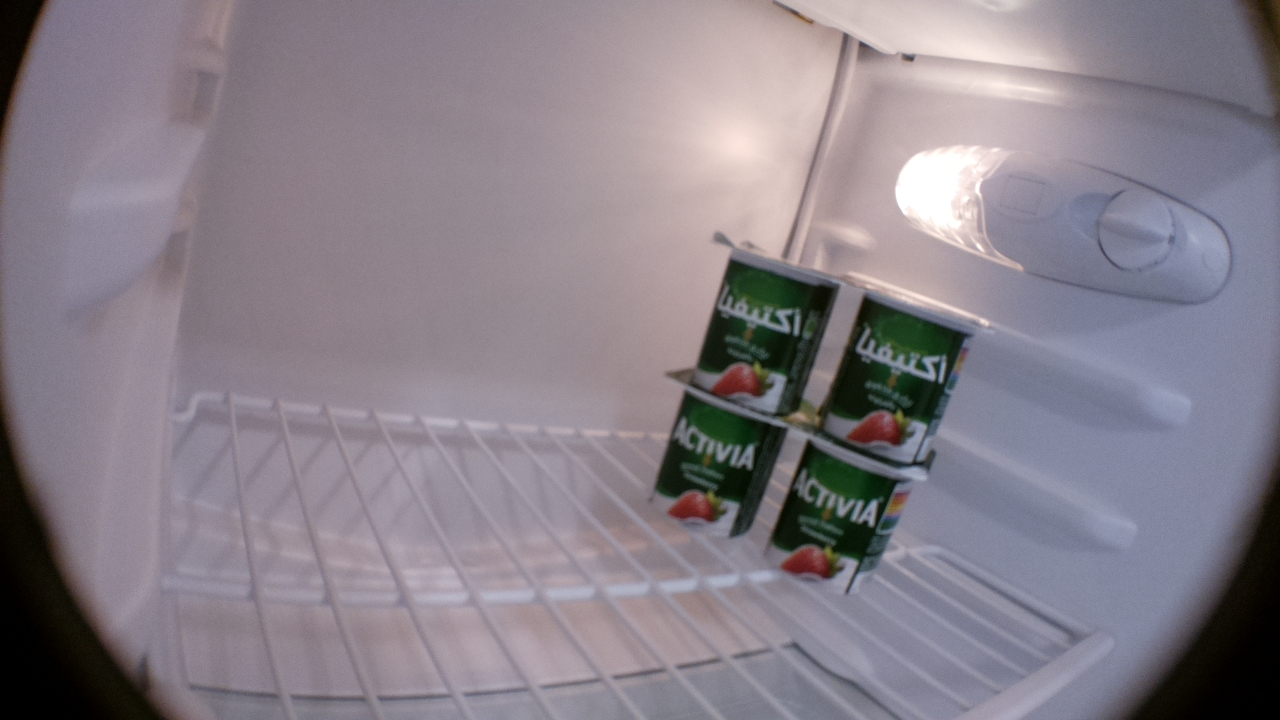yoghurt: (817, 277, 997, 464), (761, 418, 932, 597), (690, 226, 839, 414), (646, 371, 801, 541)
